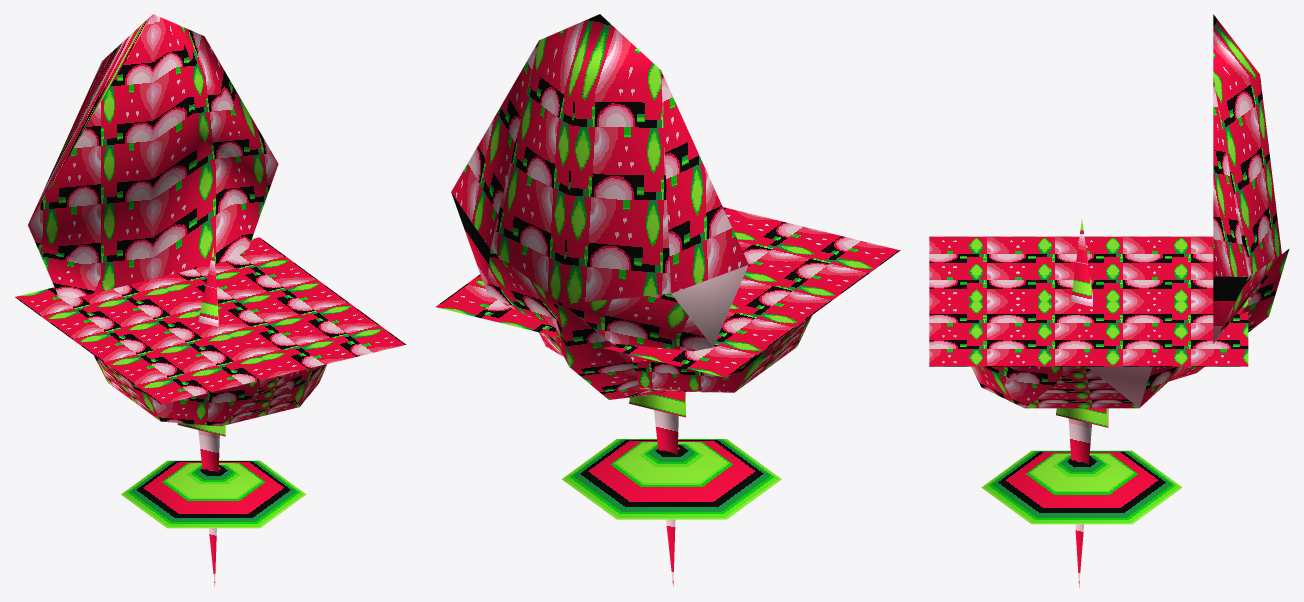
The model's file is 3702kg_it_isu.gltf.
3 renders of one model, left to right at view 1: azimuth 30°, elevation 25°; view 2: azimuth 150°, elevation 25°; view 3: azimuth 270°, elevation 25°, orthographic. The views are drawn at different scales.
Parts seen in each view (by area): view 1: 3702kg_it_isu; view 2: 3702kg_it_isu; view 3: 3702kg_it_isu.
Part boxes in pixels (left/top/right/bottom): 3702kg_it_isu: left=15, top=14, right=406, bottom=585; 3702kg_it_isu: left=436, top=14, right=900, bottom=585; 3702kg_it_isu: left=929, top=14, right=1289, bottom=587.
Size of the model in its own units: 0.6738 by 1.36 by 0.7717.
Materials: 1 (1 with a texture image).
